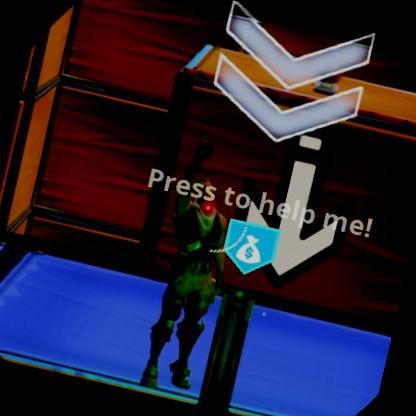person: (141, 166, 238, 367)
